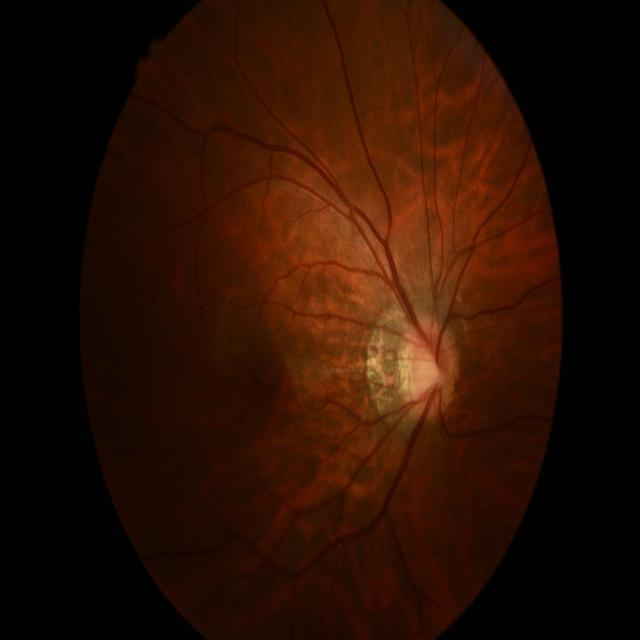cup: (414, 345, 442, 403)
disk: (408, 318, 457, 416)
